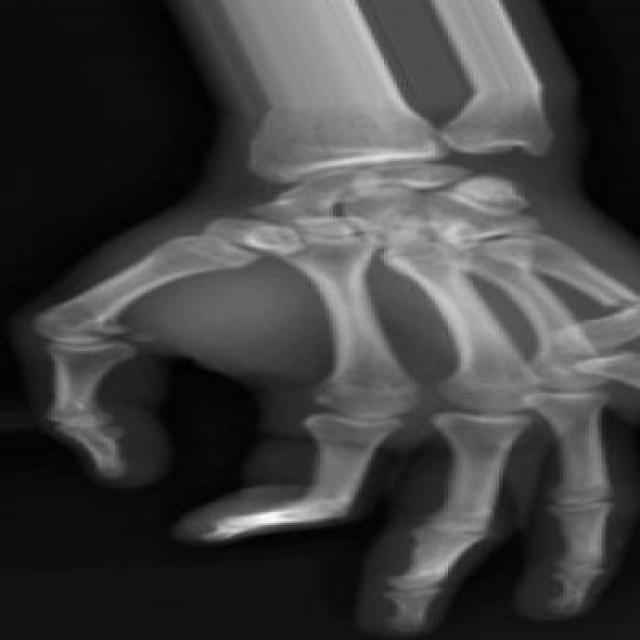Fracture: (594, 284, 640, 328)
